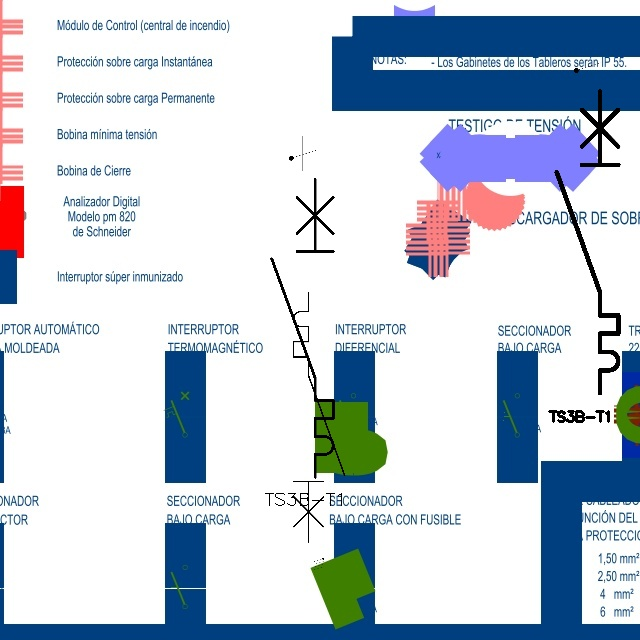interruptor_termomagnetico: (549, 83, 626, 400), (264, 171, 341, 485), (287, 286, 351, 548)
